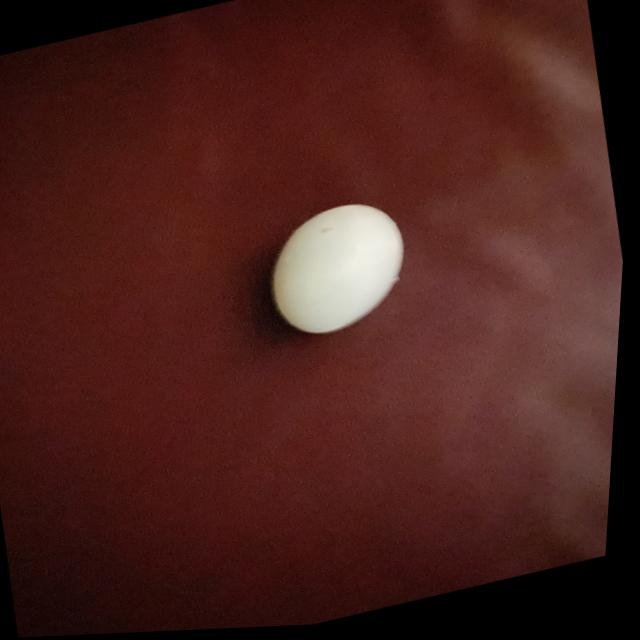egg: (251, 189, 431, 360)
